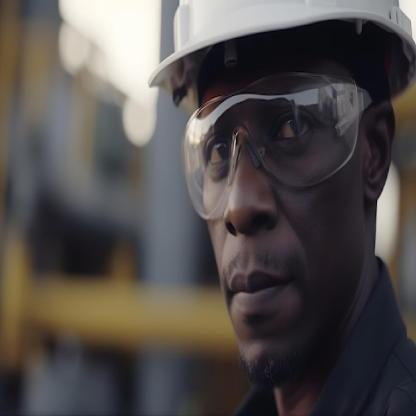oculos: (182, 77, 359, 220)
